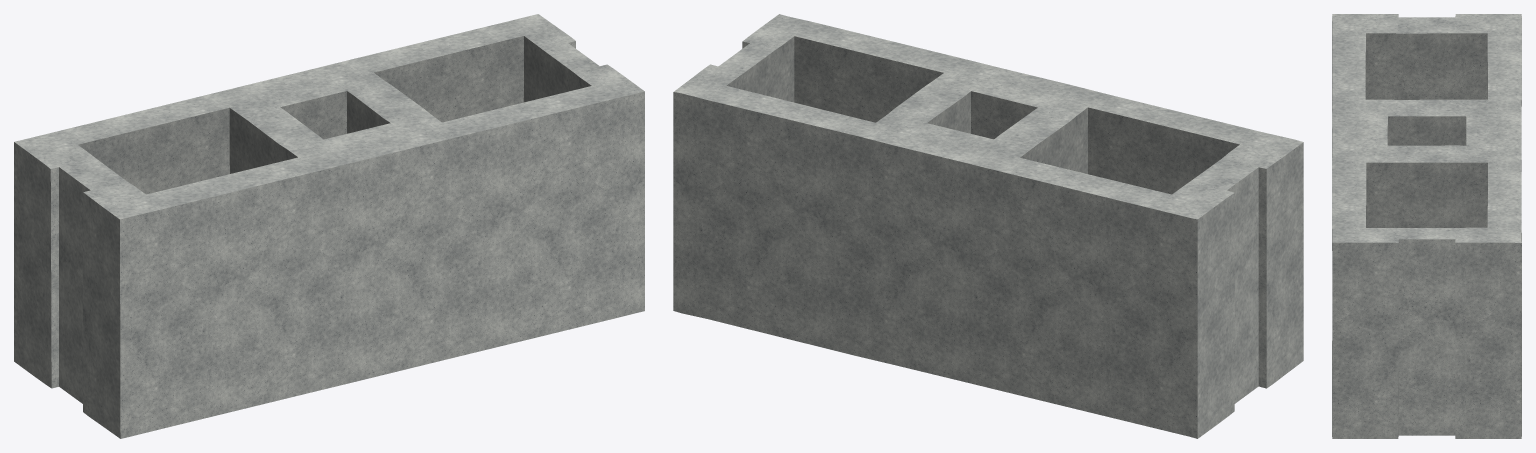
File: cement-block-large-small-large-3-void.glb
3 views of the same model, side by side, from view 1: azimuth 30°, elevation 25°; view 2: azimuth 150°, elevation 25°; view 3: azimuth 270°, elevation 25° (orthographic). The views are drawn at different scales.
Parts seen in each view (by area): view 1: cement-block-large-small-large-3-void; view 2: cement-block-large-small-large-3-void; view 3: cement-block-large-small-large-3-void.
Part boxes in pixels (x1=…): cement-block-large-small-large-3-void: x1=14, y1=14, x2=644, y2=438; cement-block-large-small-large-3-void: x1=673, y1=14, x2=1303, y2=438; cement-block-large-small-large-3-void: x1=1332, y1=14, x2=1521, y2=438.
Bounding box in the file's own units: 0.4004 × 0.1604 × 0.1404.
1 material, 1 textured.
